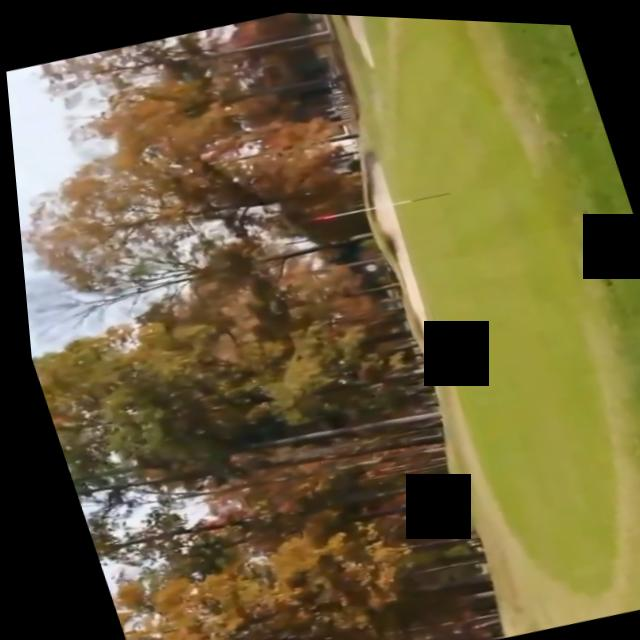Pole: (287, 159, 467, 241)
